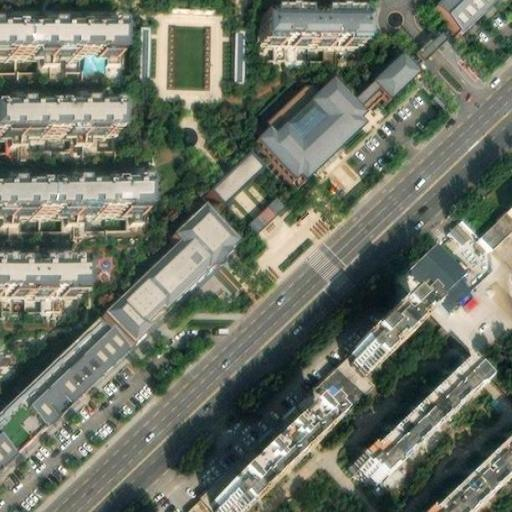building: (0, 302, 138, 463), (259, 45, 420, 175), (107, 195, 243, 332), (350, 354, 479, 480), (215, 397, 333, 512), (349, 287, 431, 367), (203, 144, 268, 206), (435, 215, 497, 279), (0, 16, 117, 48), (0, 99, 118, 130), (262, 7, 368, 36), (0, 253, 88, 286), (241, 188, 290, 236), (234, 21, 244, 76), (140, 18, 149, 75)
